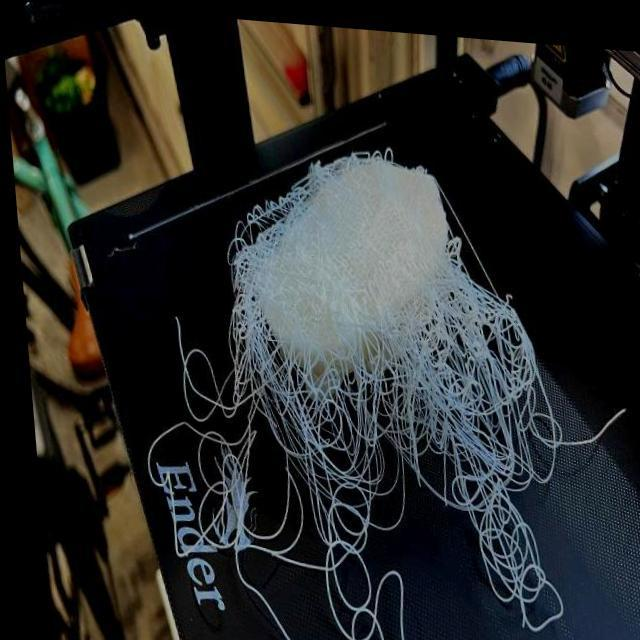spaghetti: (162, 307, 400, 625), (391, 343, 607, 627), (387, 252, 529, 358), (208, 176, 315, 315)
